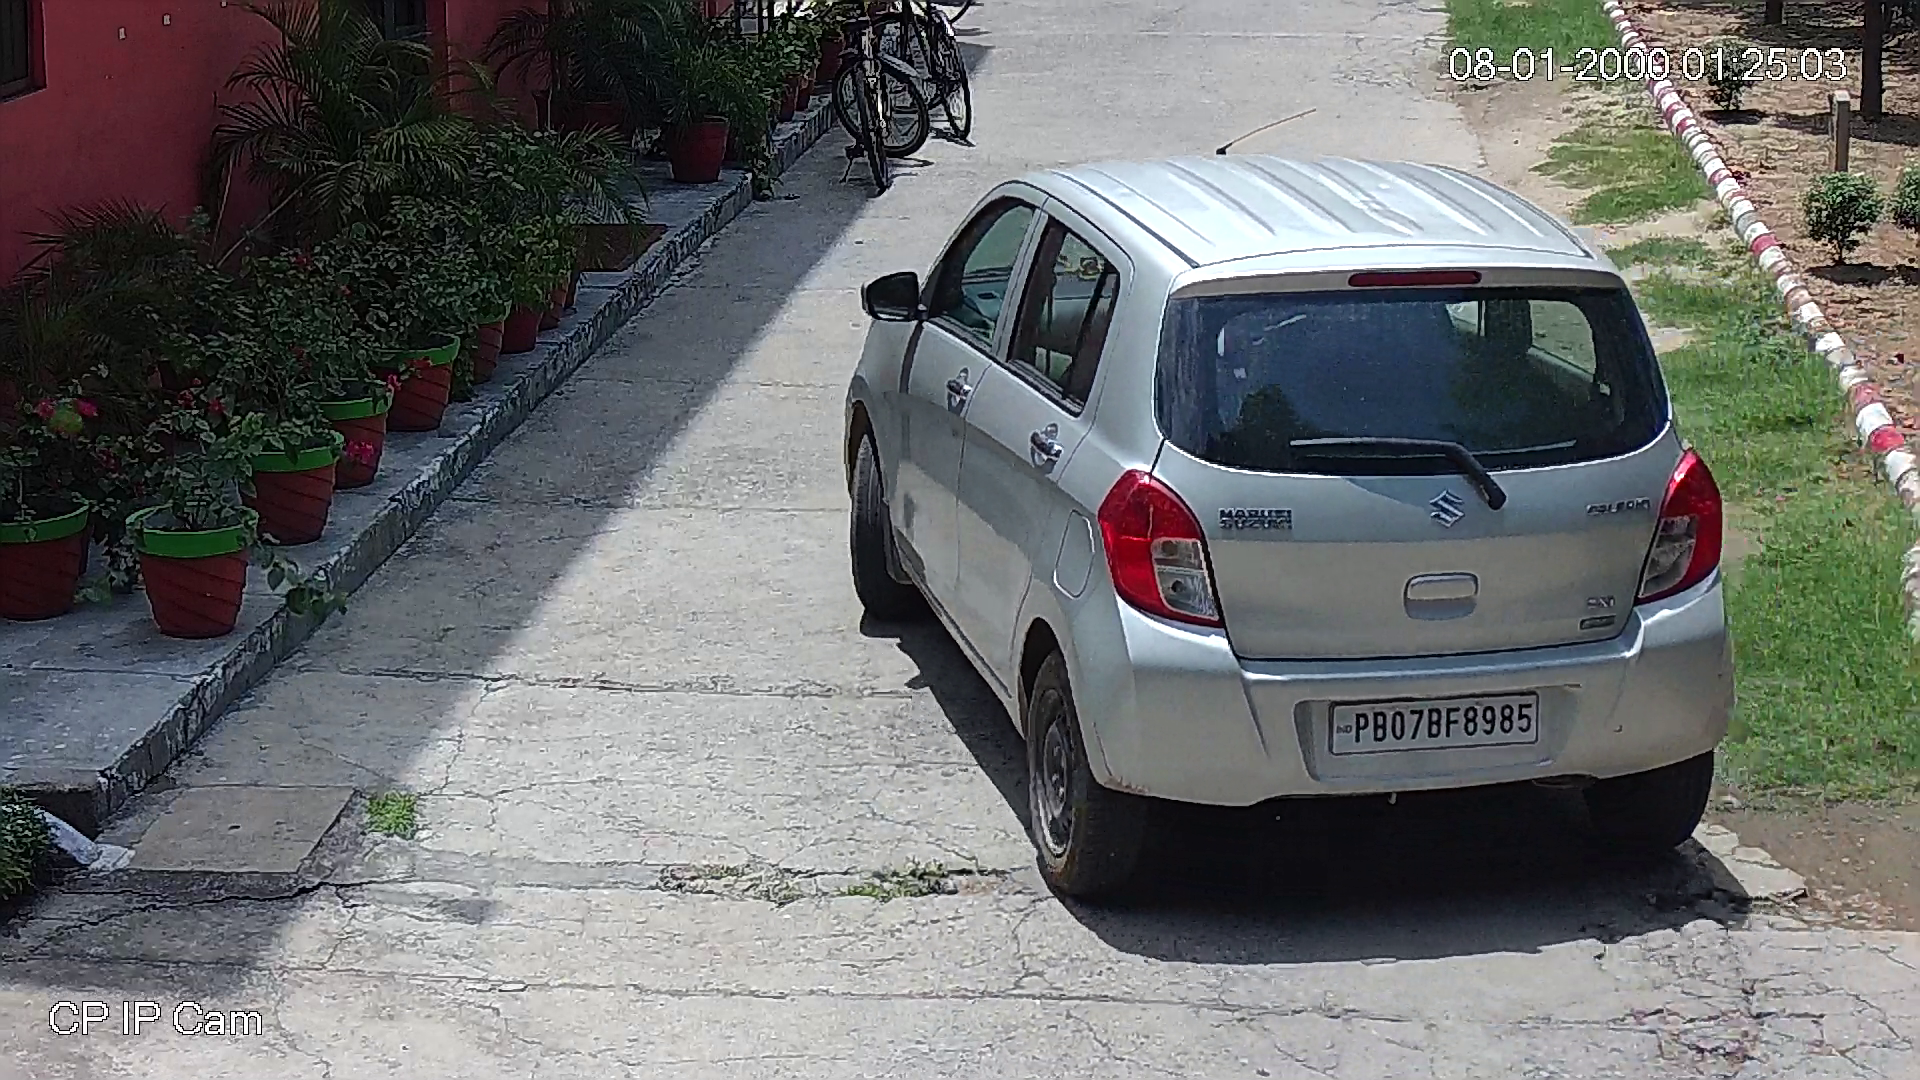plate: (1325, 690, 1548, 762)
